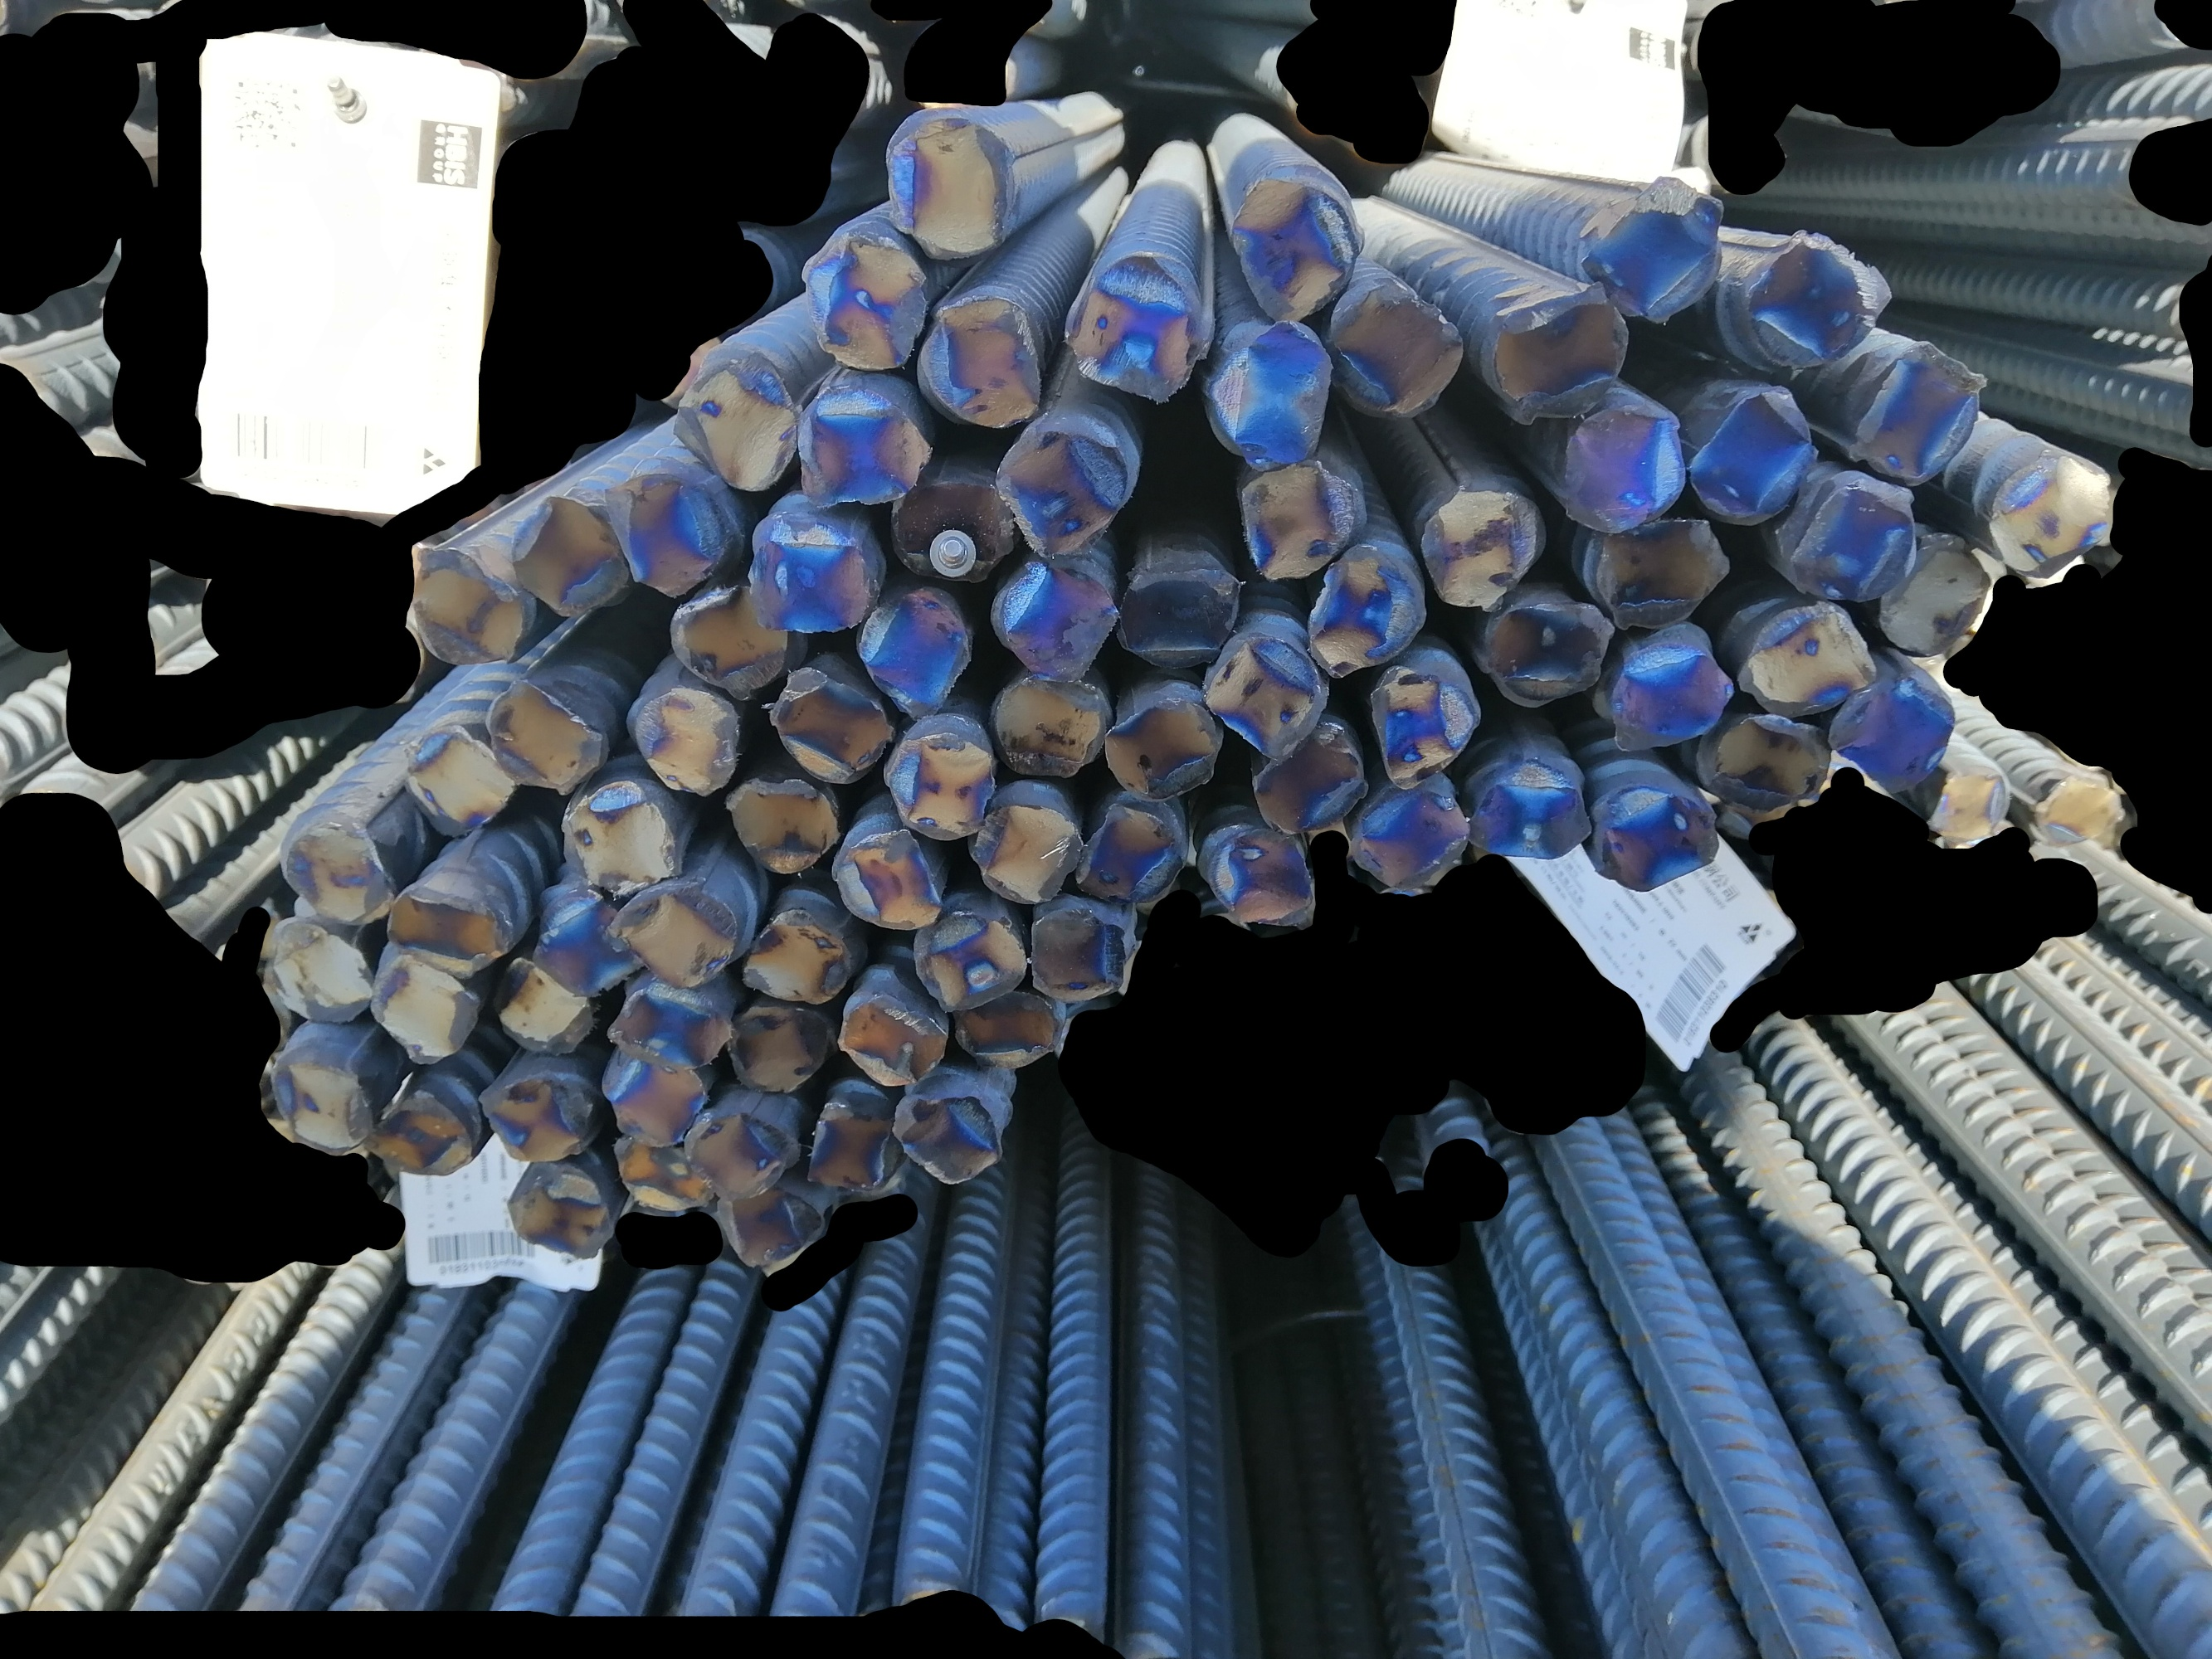rebar: (1060, 249, 1201, 403), (1848, 340, 1992, 486), (1584, 178, 1727, 326), (1687, 380, 1827, 532), (882, 110, 1016, 265), (1224, 174, 1358, 328), (671, 340, 798, 493), (1745, 228, 1876, 376), (1489, 293, 1630, 427), (992, 425, 1126, 558), (913, 295, 1044, 430), (1208, 321, 1337, 458), (1982, 451, 2118, 580), (802, 230, 926, 371), (795, 380, 931, 507), (1330, 295, 1466, 422), (1558, 397, 1684, 535), (988, 558, 1123, 685), (1201, 634, 1335, 760), (1421, 479, 1546, 612), (852, 591, 976, 725), (746, 509, 873, 638), (1307, 549, 1428, 685), (1790, 479, 1919, 605), (1598, 514, 1731, 636), (1741, 605, 1879, 721), (1238, 465, 1372, 582), (506, 493, 629, 619), (603, 474, 725, 601), (826, 812, 948, 934), (1365, 662, 1480, 791), (406, 545, 528, 666), (1485, 596, 1614, 709), (1605, 647, 1740, 755), (563, 779, 682, 899), (668, 582, 791, 697), (608, 884, 737, 992), (772, 673, 892, 788), (906, 906, 1028, 1019), (486, 681, 605, 796), (1250, 721, 1365, 838), (370, 951, 483, 1070), (277, 817, 396, 931), (1103, 692, 1222, 805), (1832, 683, 1952, 795), (988, 671, 1109, 781), (1874, 549, 1996, 657), (892, 481, 1018, 586), (964, 800, 1082, 910), (880, 730, 997, 840), (399, 730, 518, 838), (1351, 786, 1469, 894), (1116, 570, 1239, 673), (1199, 821, 1316, 929), (382, 882, 509, 979), (725, 774, 842, 880), (1600, 791, 1720, 894), (1074, 802, 1185, 911), (476, 1072, 605, 1166), (631, 692, 741, 800), (267, 915, 373, 1026), (837, 986, 950, 1089), (532, 890, 634, 1002), (502, 1162, 615, 1263), (486, 953, 596, 1056), (605, 985, 734, 1072), (739, 911, 852, 1009), (1717, 714, 1830, 812), (1468, 777, 1591, 864), (600, 1054, 709, 1152), (265, 1056, 378, 1150), (727, 1000, 837, 1096), (1030, 904, 1131, 1006), (711, 1183, 828, 1270), (889, 1096, 1002, 1185), (682, 1110, 788, 1202), (605, 1127, 722, 1211), (950, 988, 1062, 1075), (1909, 755, 2012, 847), (371, 1093, 476, 1176), (2022, 769, 2125, 850), (805, 1105, 898, 1194)
